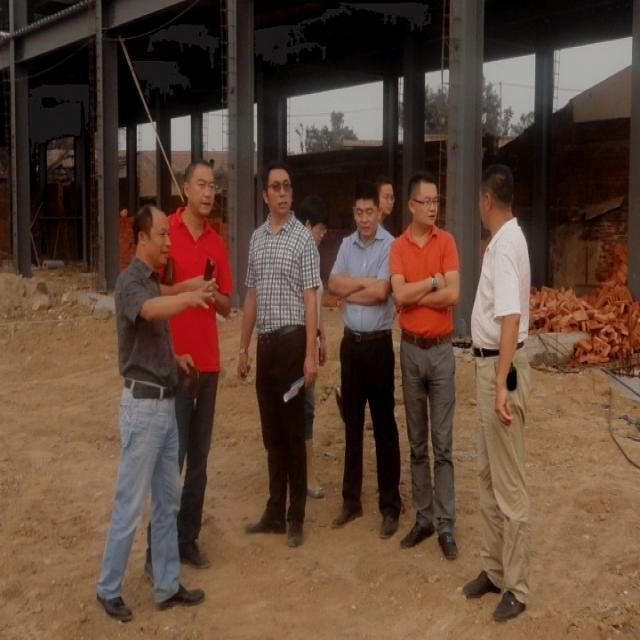Sin_Casco_Mascarrilla: (260, 162, 296, 218), (408, 171, 440, 228)
Sin_Chaleco: (470, 217, 534, 359), (248, 219, 317, 337), (116, 260, 176, 384)
